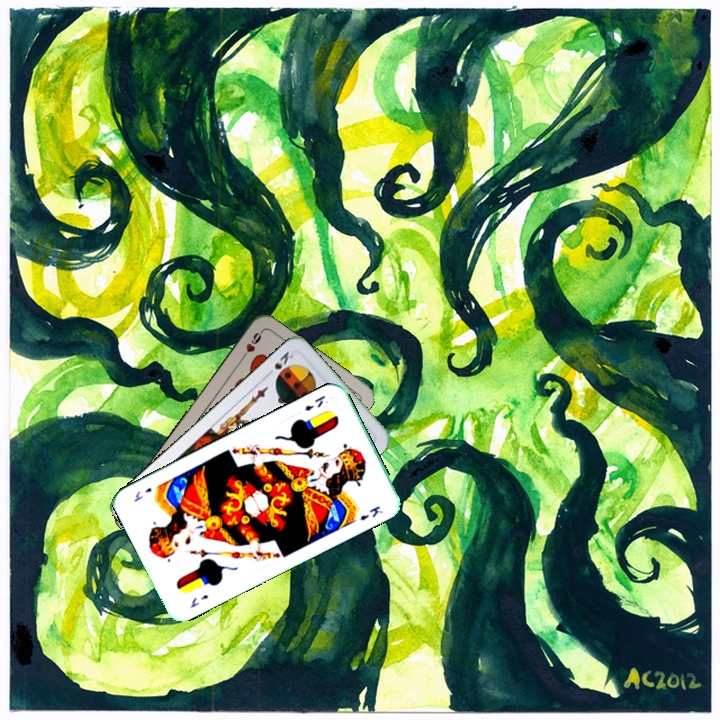EK: (301, 391, 328, 414), (186, 590, 211, 610)
H9: (237, 327, 265, 363)
SK: (262, 347, 296, 379)
